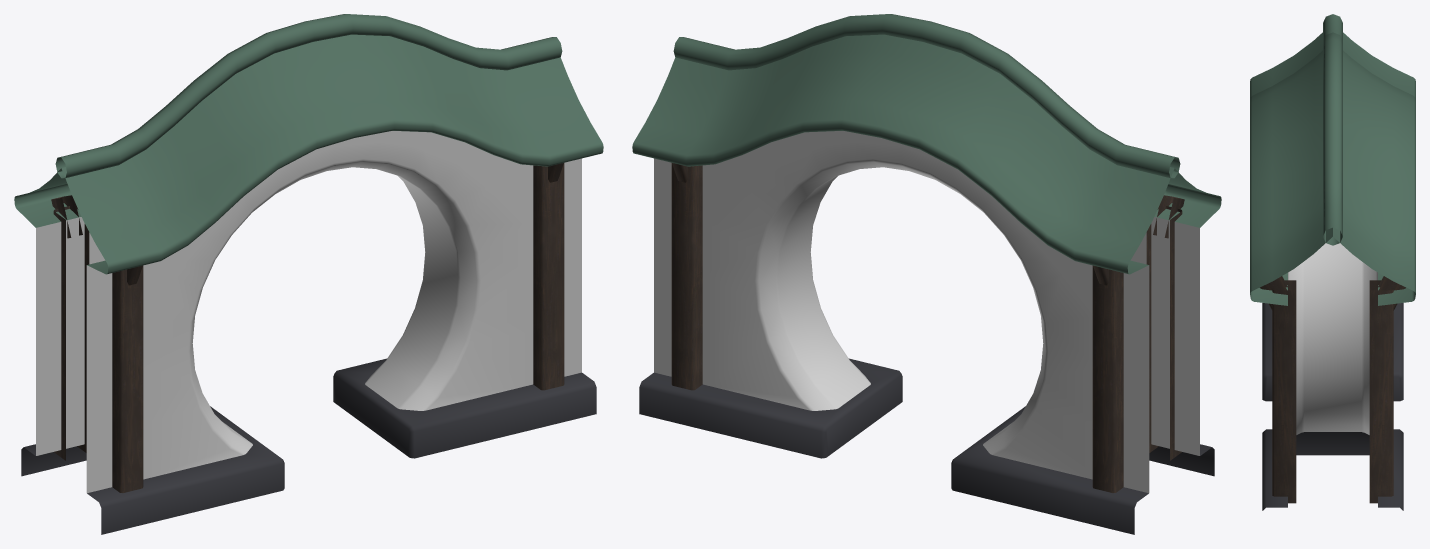
File: Wall_Gate.fbx
The picture shows the model from 3 angles, left to right: view 1: azimuth 30°, elevation 25°; view 2: azimuth 150°, elevation 25°; view 3: azimuth 270°, elevation 25°; orthographic projection. The views are drawn at different scales.
Visible parts, largest first — view 1: Wall_Gate.002; view 2: Wall_Gate.002; view 3: Wall_Gate.002.
Boxes of the visible parts, left/top/right/bottom form: Wall_Gate.002: left=14, top=14, right=603, bottom=534; Wall_Gate.002: left=632, top=14, right=1221, bottom=534; Wall_Gate.002: left=1250, top=14, right=1415, bottom=510.
Bounding box in the file's own units: 4 × 3.27 × 1.31.
